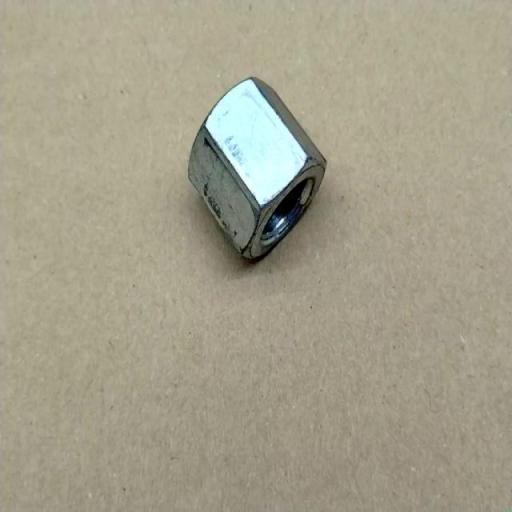Nut: (187, 76, 328, 263)
